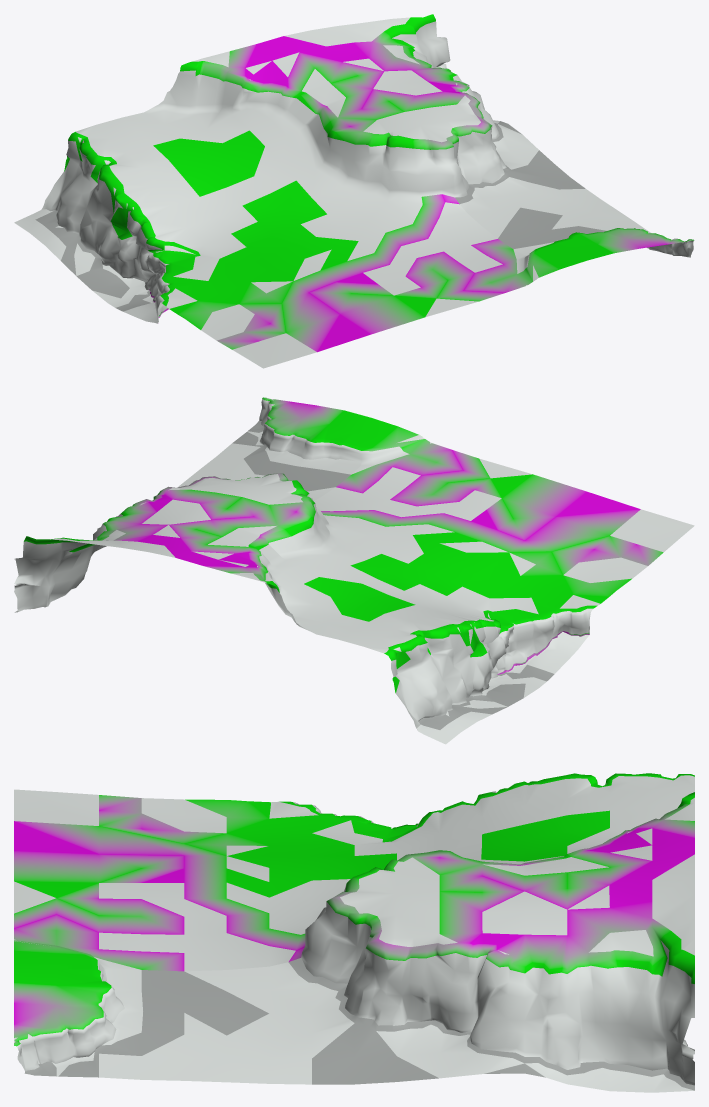
3 views of the same model, one above another, from view 1: azimuth 30°, elevation 25°; view 2: azimuth 150°, elevation 25°; view 3: azimuth 270°, elevation 25° (orthographic). The views are drawn at different scales.
Parts seen in each view (by area): view 1: G:\FFXIV-MapTools\exports\f1f1\bg\ffxiv\fst_f1\fld\f1f1\bgpl (×9); view 2: G:\FFXIV-MapTools\exports\f1f1\bg\ffxiv\fst_f1\fld\f1f1\bgpl (×11); view 3: G:\FFXIV-MapTools\exports\f1f1\bg\ffxiv\fst_f1\fld\f1f1\bgpl (×9).
Boxes of the visible parts, x1,y1,x2,y2 form: G:\FFXIV-MapTools\exports\f1f1\bg\ffxiv\fst_f1\fld\f1f1\bgpl (×9): [14, 14, 694, 368]; G:\FFXIV-MapTools\exports\f1f1\bg\ffxiv\fst_f1\fld\f1f1\bgpl (×11): [14, 397, 694, 744]; G:\FFXIV-MapTools\exports\f1f1\bg\ffxiv\fst_f1\fld\f1f1\bgpl (×9): [14, 773, 694, 1092].
Size of the model in its own units: 128 by 37.6 by 128.
